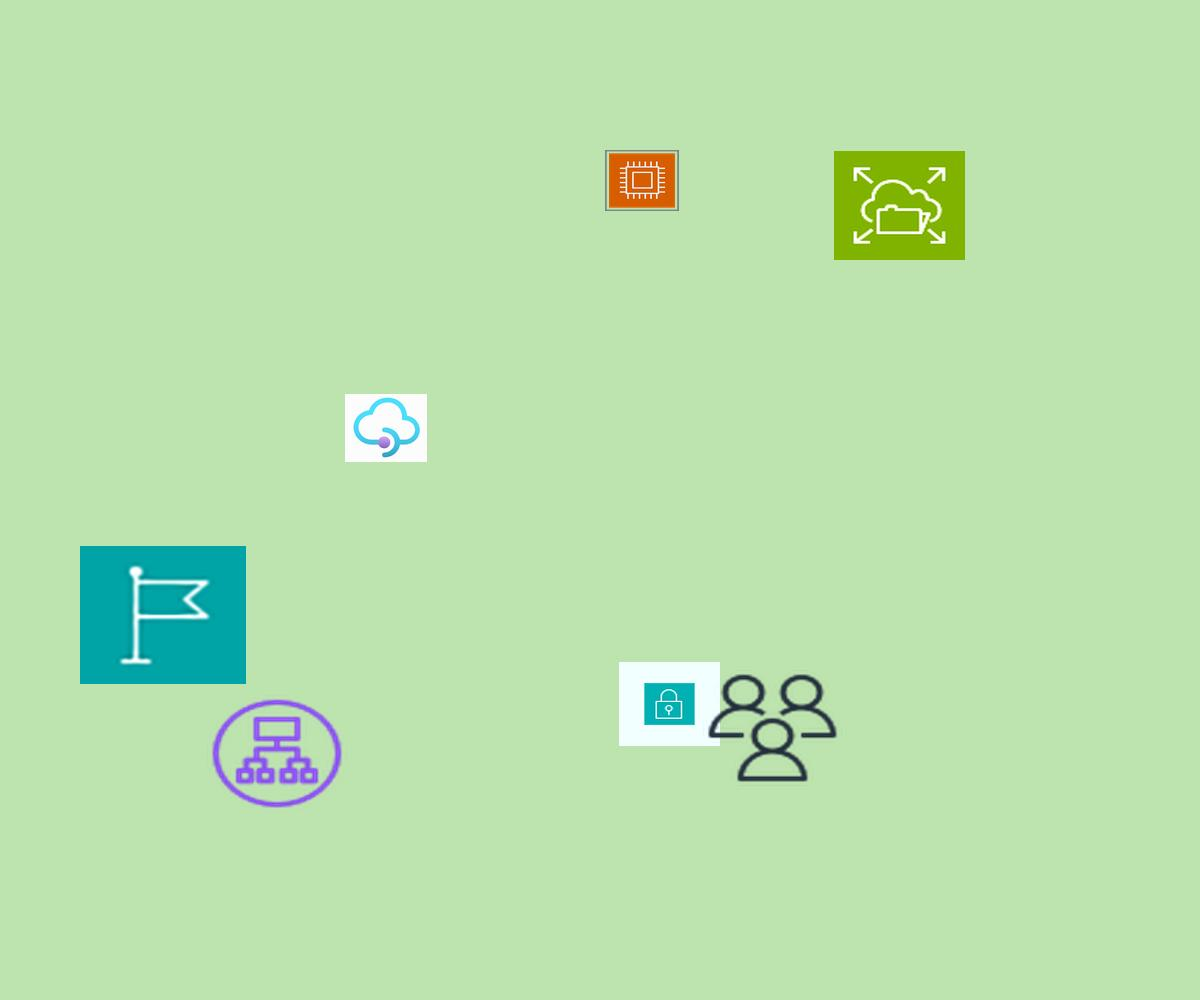AWS-Category_Compute: (605, 150, 679, 211)
AWS-EFS: (834, 151, 965, 260)
AWS-Private-subnet: (619, 662, 720, 746)
AWS-Region: (80, 546, 246, 684)
AWS-Res_Elastic-Load-Balancing_Application-Load-Balancer: (207, 695, 347, 812)
AWS-Res_Users: (703, 670, 842, 786)
Azure_api_gateway: (345, 394, 427, 462)
